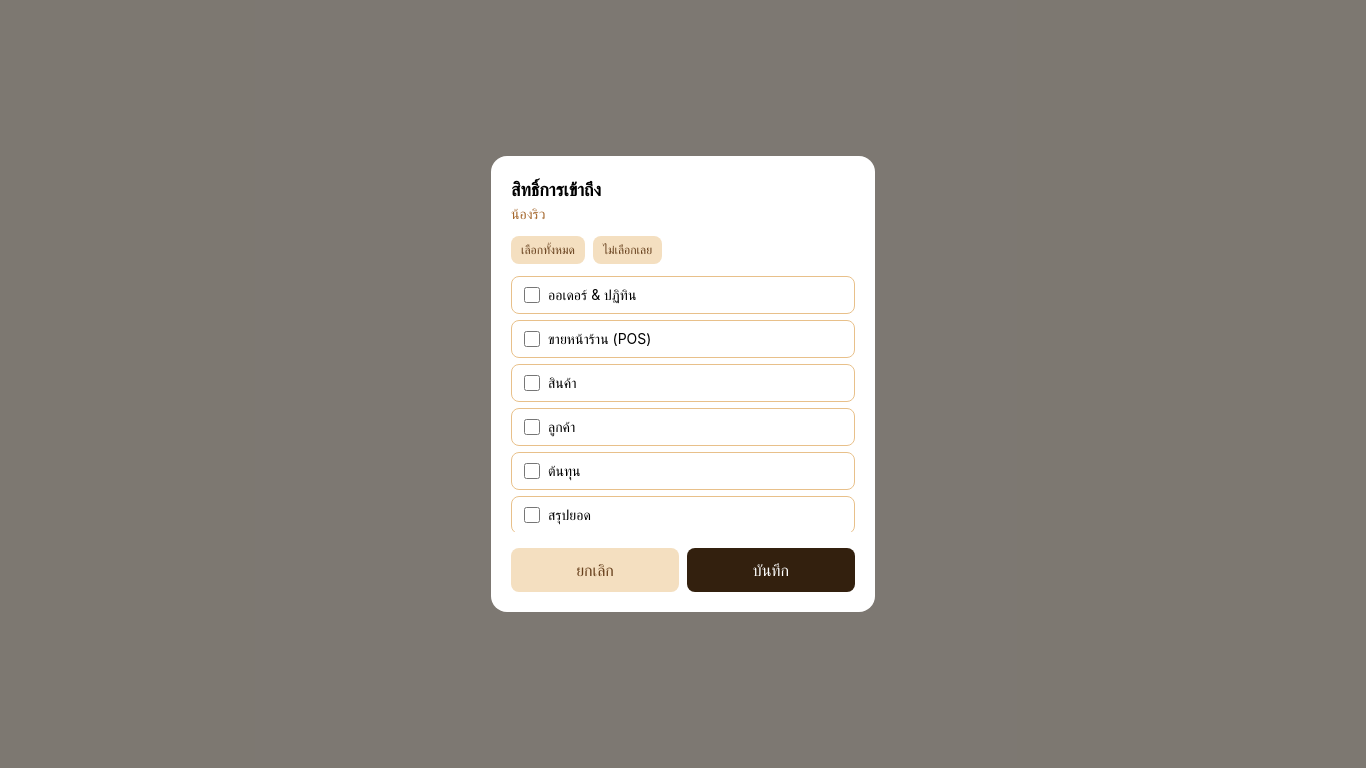
Test: StaffPermissionsModal › กด "เลือกทั้งหมด" ติ๊กทุกช่อง
Click the button "เลือกทั้งหมด" at (548, 250), box [511, 236, 585, 264]
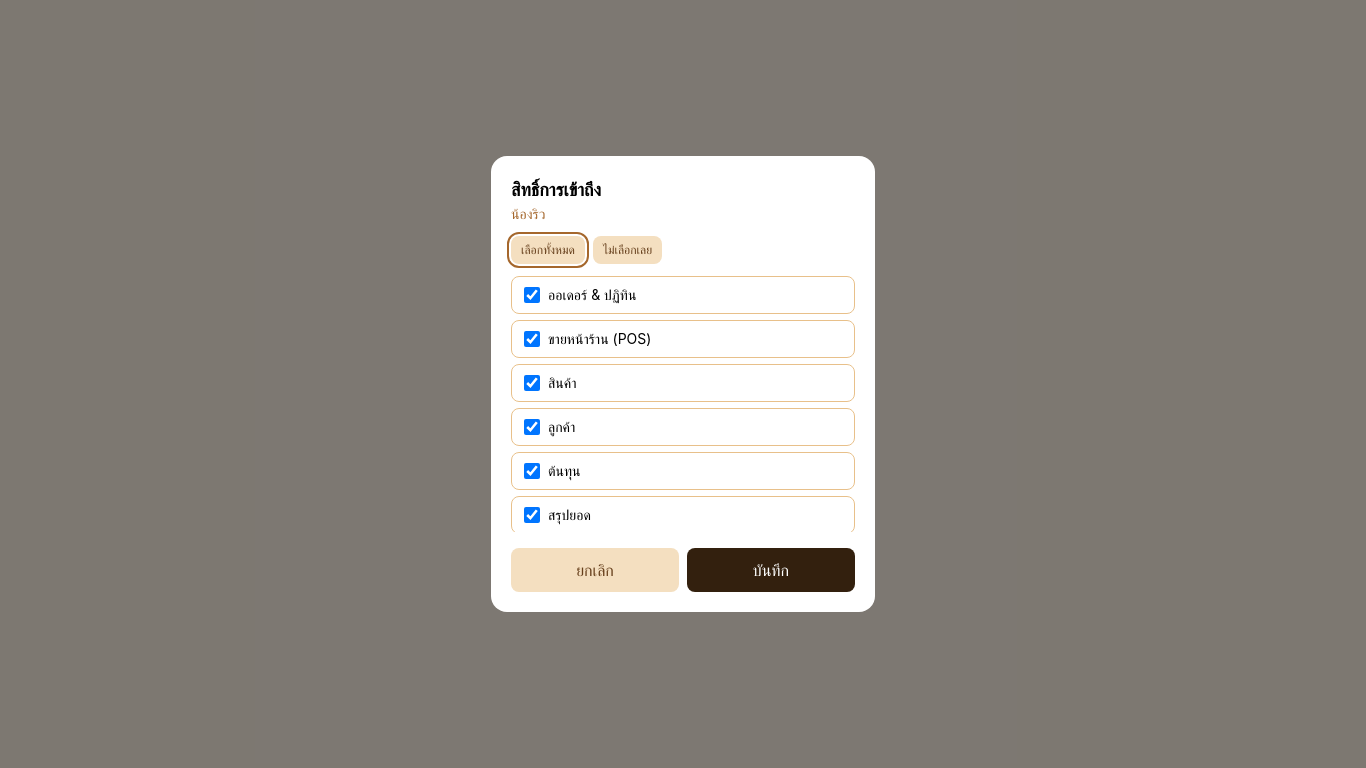
Result: the checkbox labelled "ออเดอร์ & ปฏิทิน" is checked at [524, 287, 540, 303]
Result: the checkbox labelled "สินค้า" is checked at [524, 375, 540, 391]
Result: the checkbox labelled "ลูกค้า" is checked at [524, 419, 540, 435]
